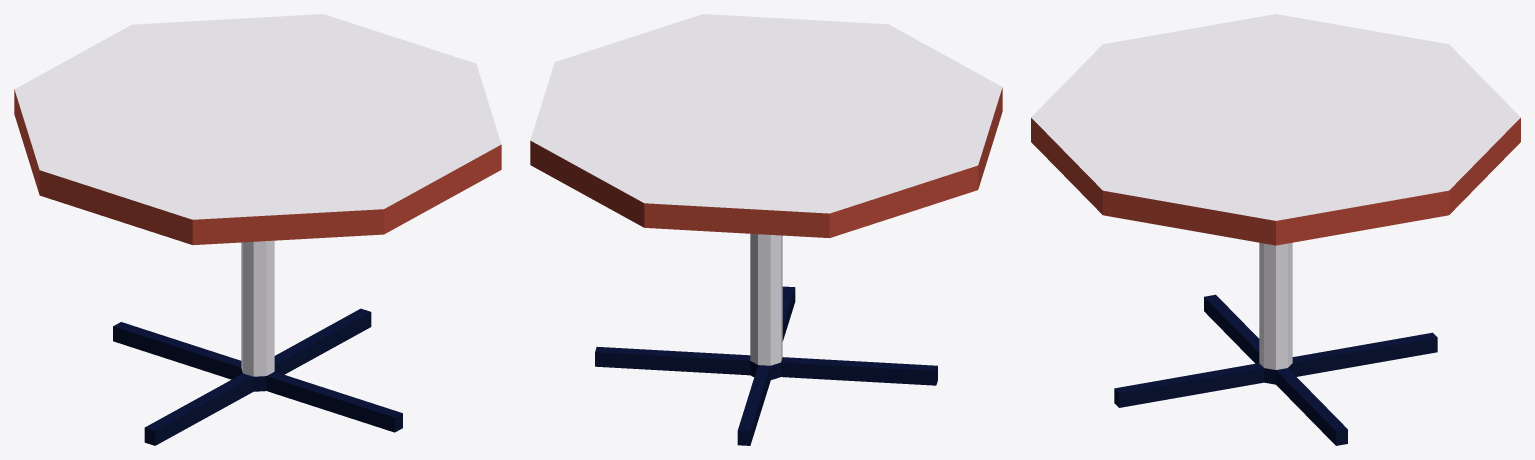
Rendered from round_table.fbx.
The picture shows the model from 3 angles, left to right: view 1: azimuth 30°, elevation 25°; view 2: azimuth 150°, elevation 25°; view 3: azimuth 270°, elevation 25°; orthographic projection. The views are drawn at different scales.
Parts seen in each view (by area): view 1: Cylinder; view 2: Cylinder; view 3: Cylinder.
Part boxes in pixels (left/top/right/bottom): Cylinder: left=14, top=14, right=501, bottom=445; Cylinder: left=530, top=14, right=1002, bottom=445; Cylinder: left=1031, top=14, right=1520, bottom=445.
Size of the model in its own units: 374 by 219 by 374.
